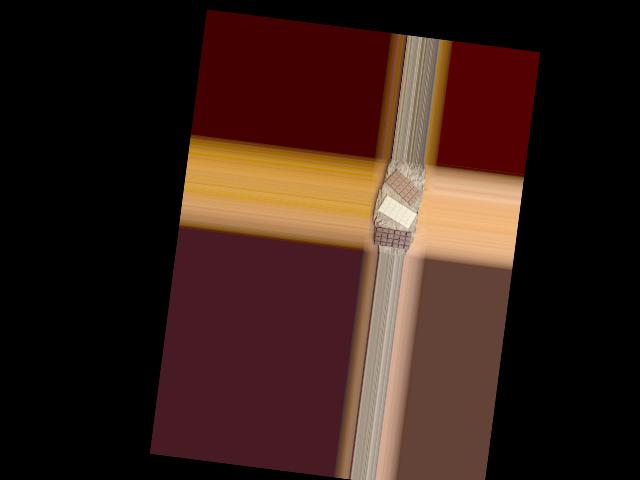chocolate: (372, 227, 411, 250)
